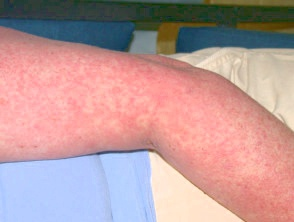SJS-TEN: (0, 19, 294, 222)
